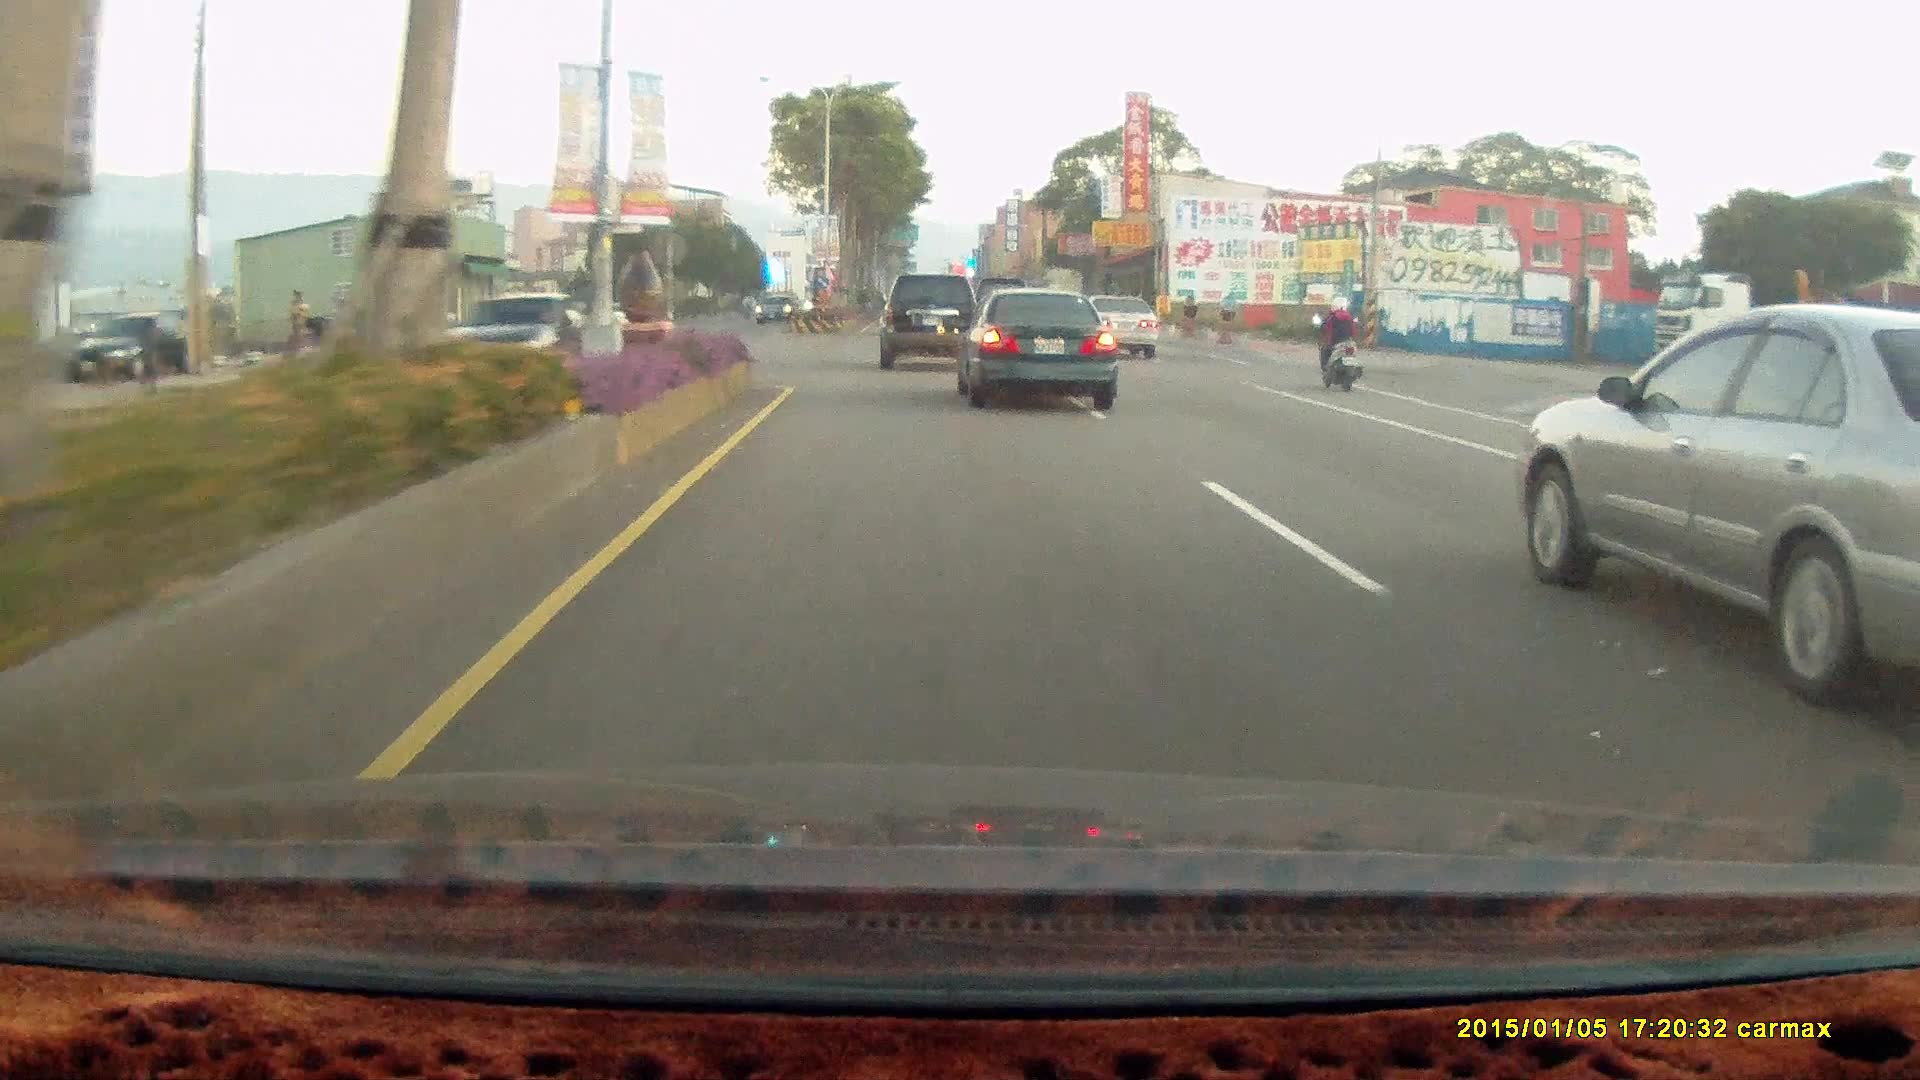pedestrian: (133, 316, 160, 390)
rider: (1306, 289, 1374, 400), (1308, 293, 1364, 390)
vehicle: (1522, 301, 1920, 710), (1649, 272, 1920, 373), (944, 291, 1109, 412), (962, 295, 1124, 415), (442, 293, 594, 386), (443, 288, 592, 382), (880, 274, 986, 374), (878, 273, 979, 370), (62, 313, 185, 387), (66, 313, 186, 385), (1077, 295, 1163, 360), (751, 297, 802, 329), (753, 293, 800, 323)
